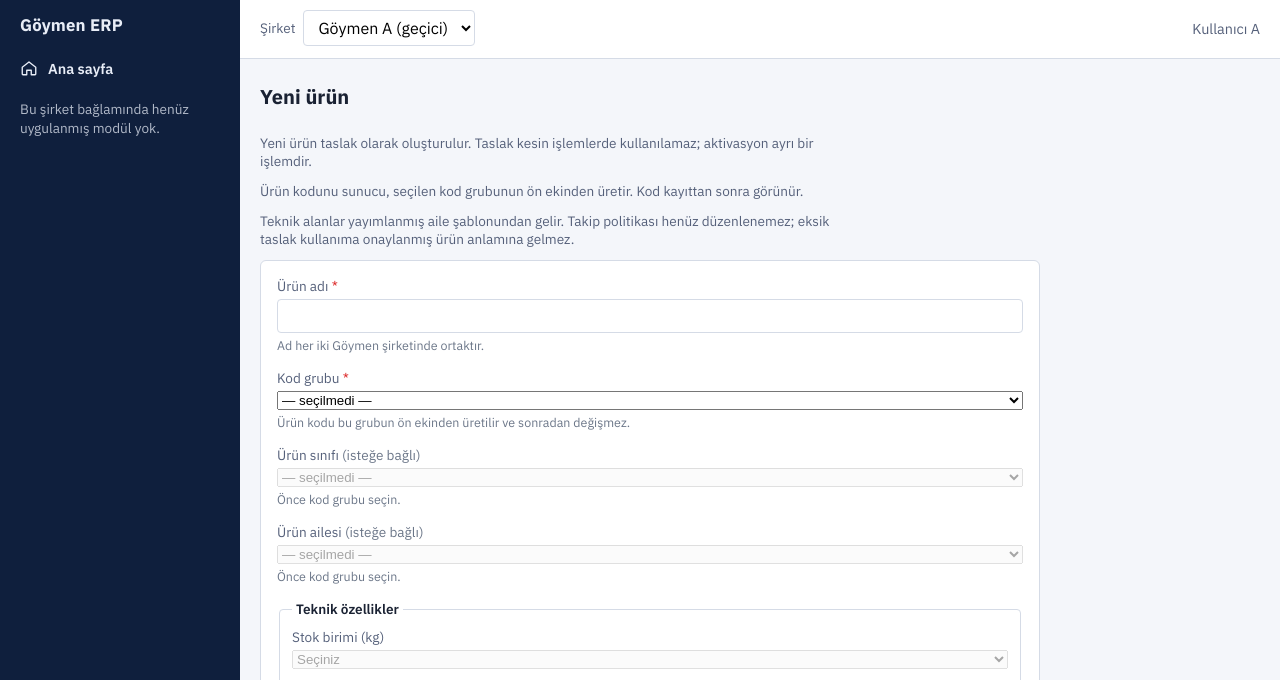
Test case: a chosen class while its scoped reference read is out › keeps the chosen class when its settled catalogue is unavailable and holds the save
This screenshot has width=1280, height=680.
Type "Siyah sac" into the field labelled "Ürün adı *" at x=650, y=316, box [277, 299, 1023, 333]
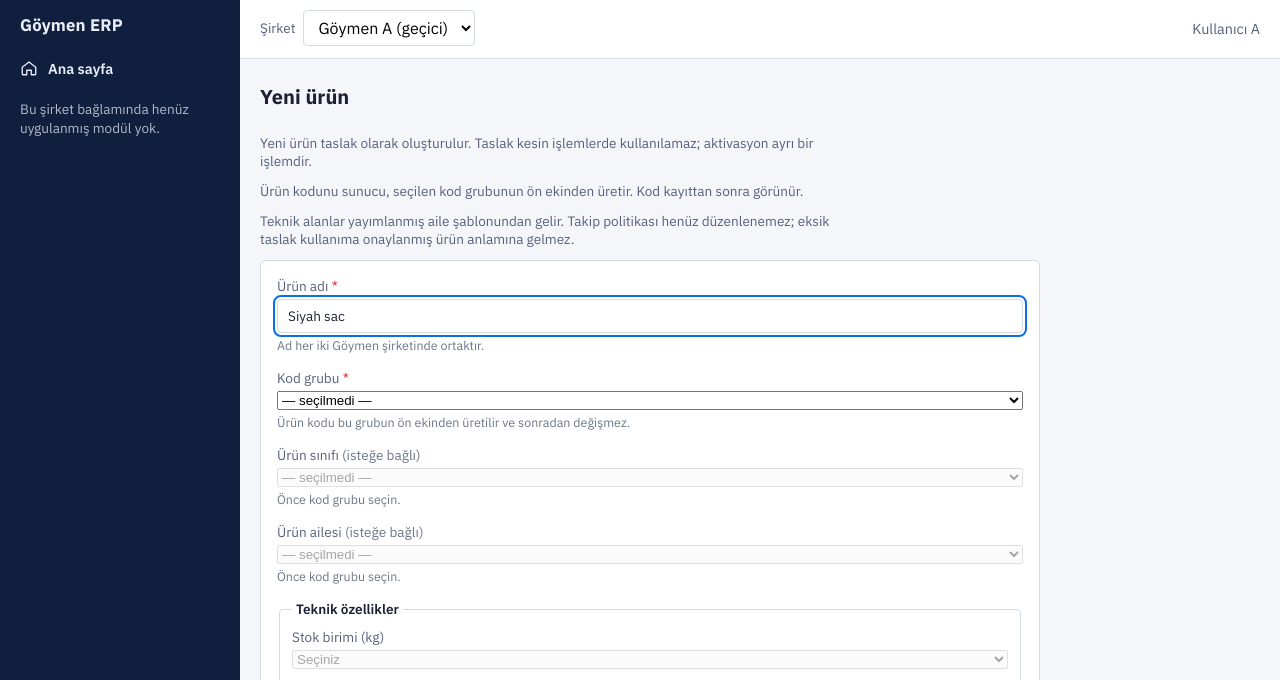
Select "Sac (SAC)" in the dropdown labelled "Kod grubu *" at x=650, y=400, box [277, 391, 1023, 410]
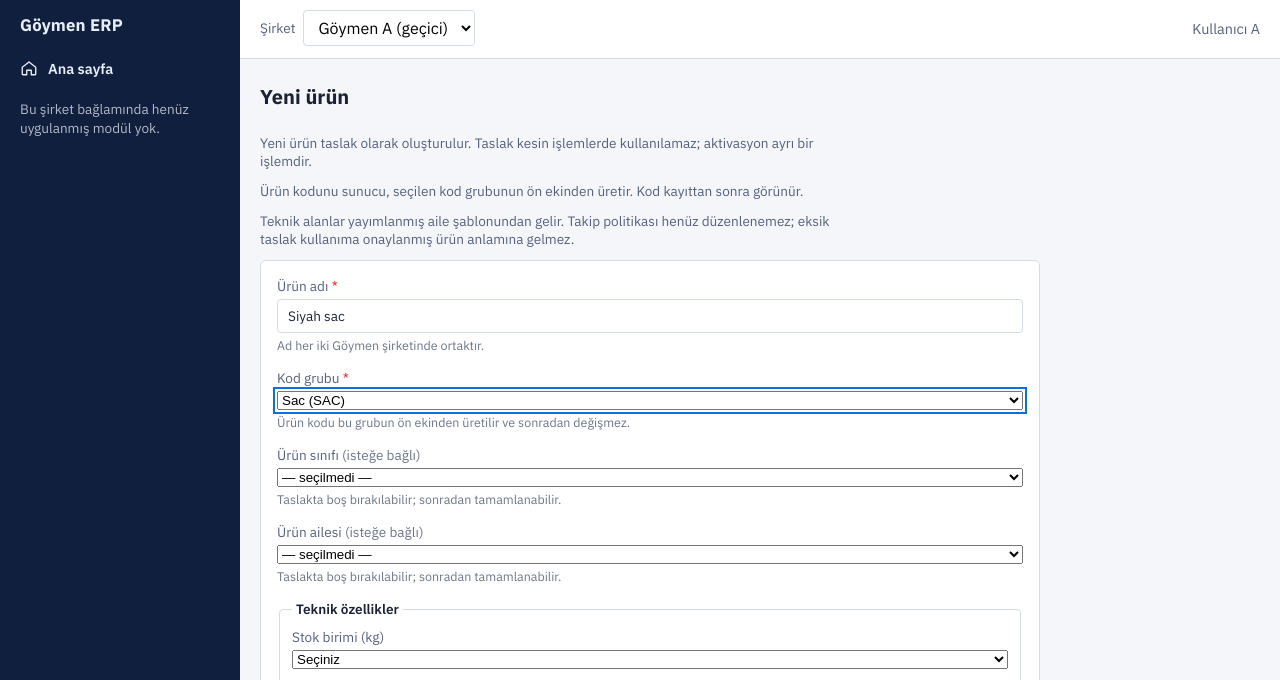
Select "Yassı ürün" in the dropdown labelled "Ürün sınıfı (isteğe bağlı)" at x=650, y=478, box [277, 468, 1023, 487]
(page scrolled)
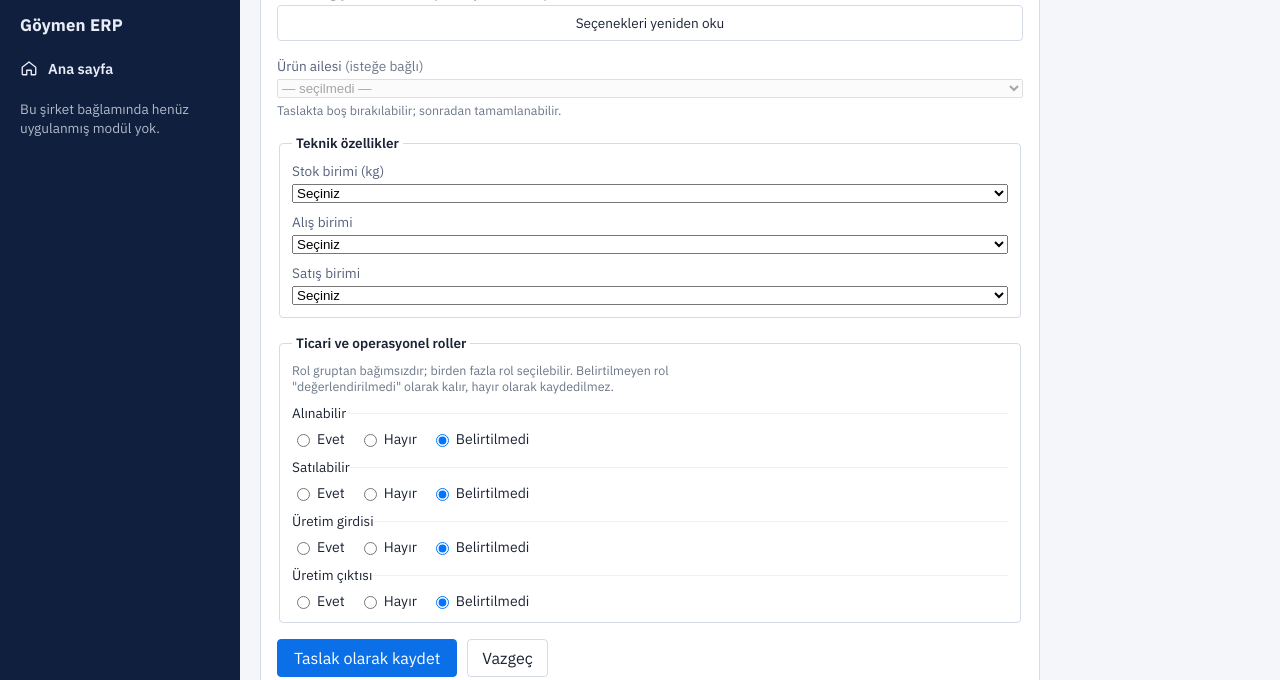
Click the button "Taslak olarak kaydet" at x=367, y=658, box [277, 639, 457, 677]
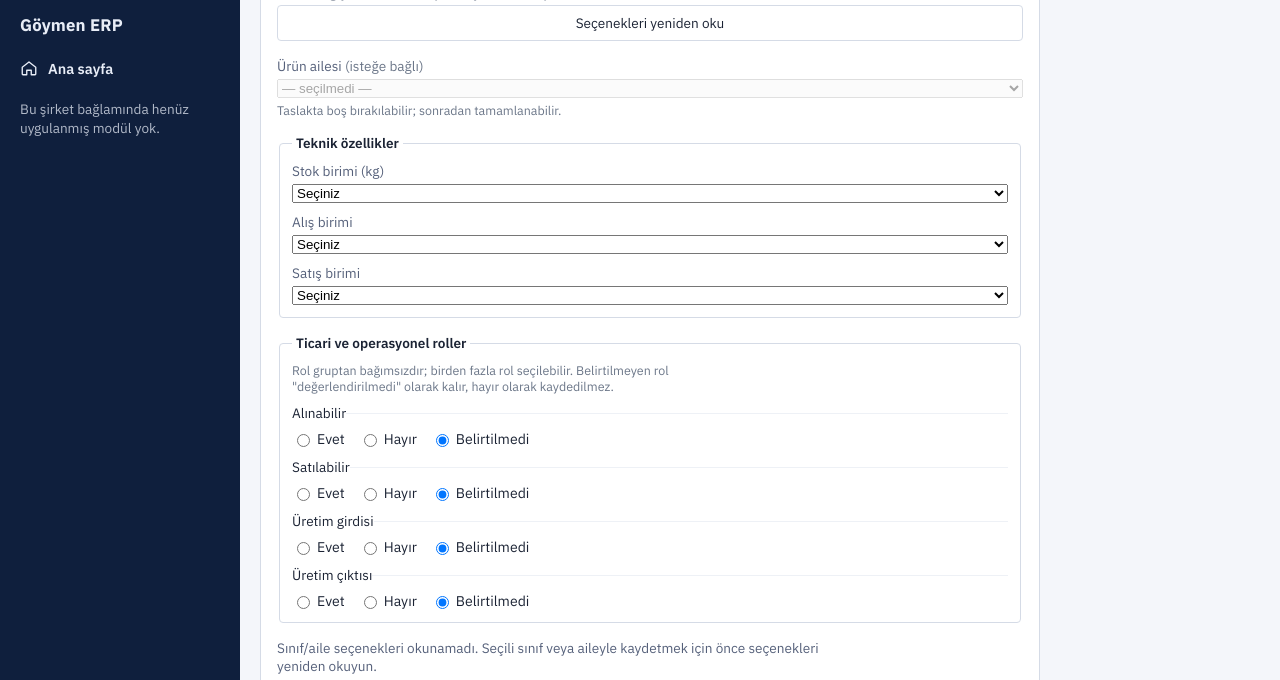
Check: the message with test id "product-create-reference-hold" shows "Sınıf/aile seçenekleri okunamadı. Seçili sınıf veya aileyle kaydetmek için önce seçenekleri yeniden okuyun.", box [277, 639, 819, 675]
